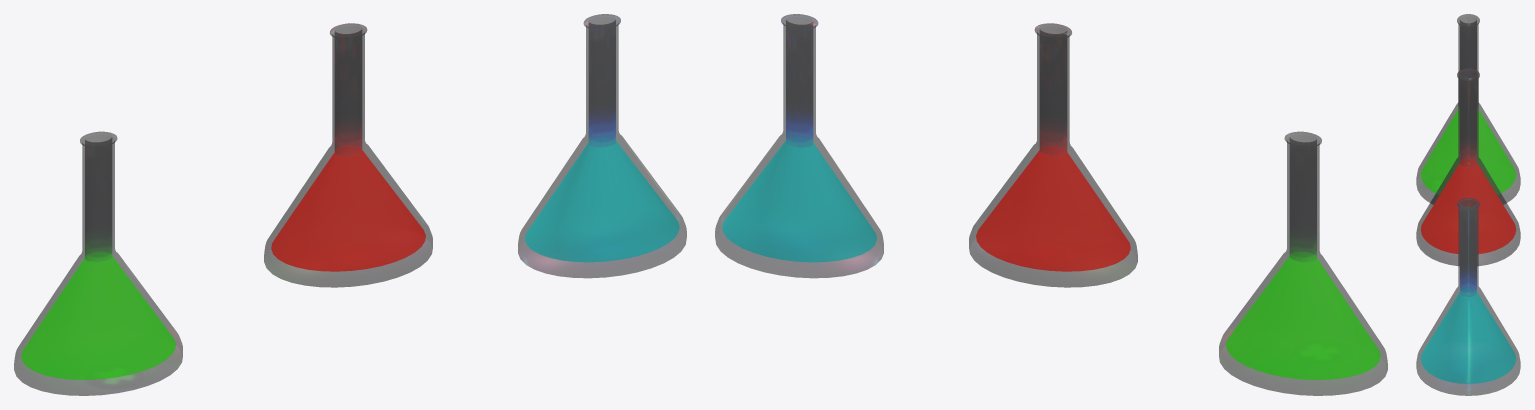
The model's file is pack.glb.
3 renders of one model, left to right at view 1: azimuth 30°, elevation 25°; view 2: azimuth 150°, elevation 25°; view 3: azimuth 270°, elevation 25°, orthographic. The views are drawn at different scales.
Parts seen in each view (by area): view 1: Cylinder.001, Cylinder.005, Cylinder.006; view 2: Cylinder.001, Cylinder.005, Cylinder.006; view 3: Cylinder.006, Cylinder.001, Cylinder.005.
Boxes of the visible parts, x1,y1,x2,y2 form: Cylinder.001: [264, 23, 432, 287]; Cylinder.005: [14, 131, 182, 395]; Cylinder.006: [518, 14, 686, 278]; Cylinder.001: [969, 23, 1137, 287]; Cylinder.005: [1219, 131, 1387, 395]; Cylinder.006: [715, 14, 883, 278]; Cylinder.006: [1416, 197, 1520, 395]; Cylinder.001: [1416, 68, 1520, 265]; Cylinder.005: [1416, 14, 1520, 204].
Bounding box in the file's own units: 4.76 × 1.93 × 0.8923.
3 materials, 3 textured.
